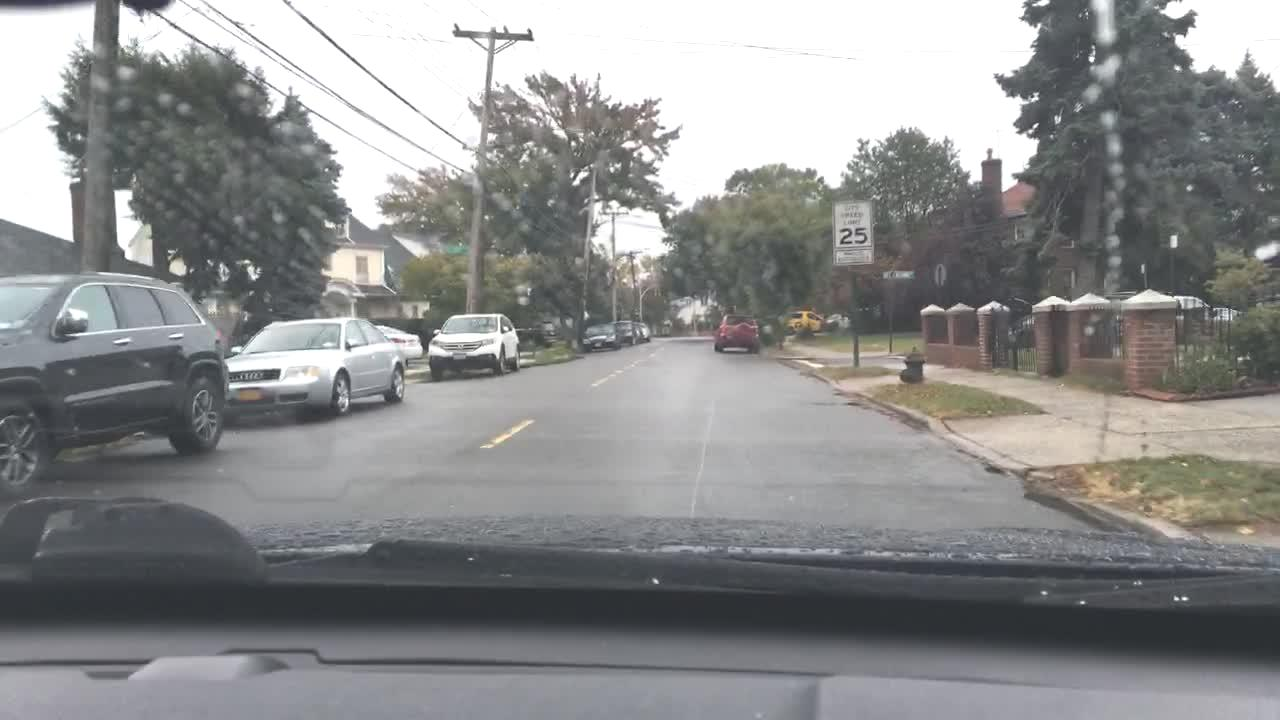Audi: (240, 371, 265, 381)
